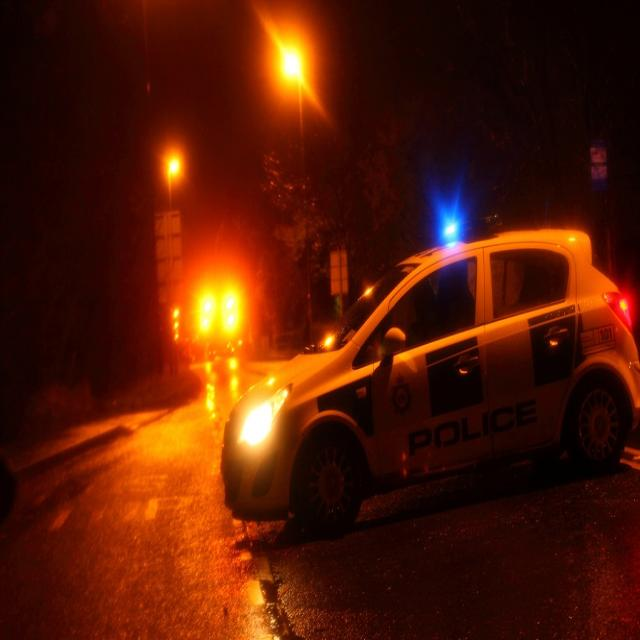Car: (213, 162, 640, 598)
